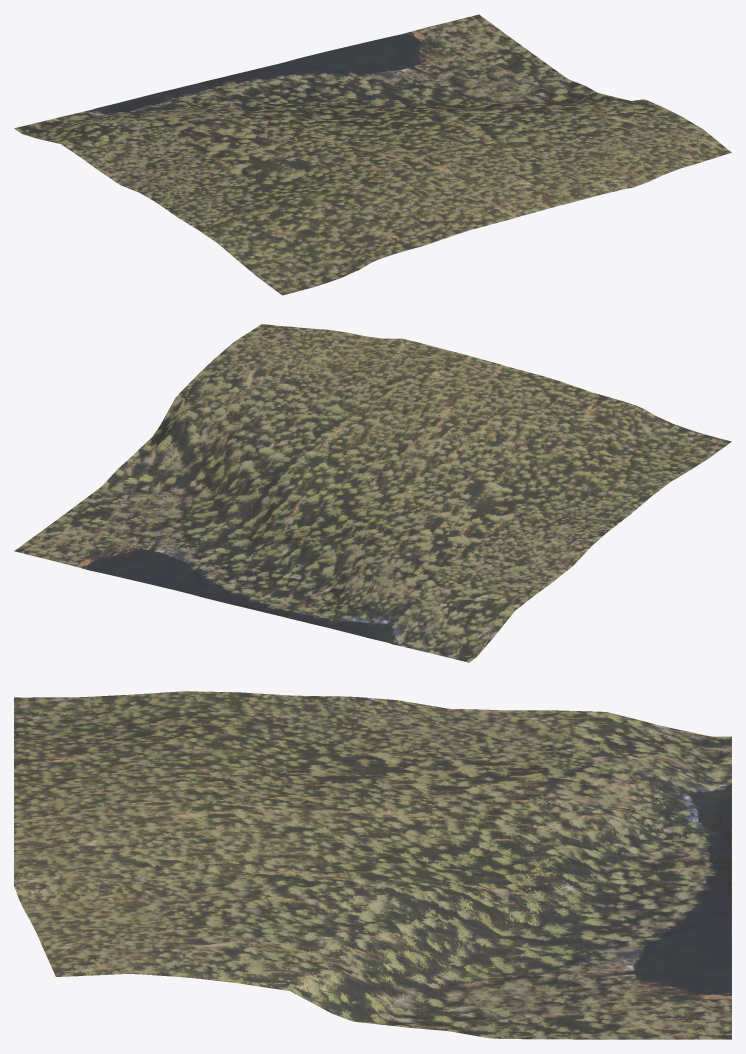
The model's file is CM_Terrain_24493530_6813855.fbx.
The picture shows the model from 3 angles, top to bottom: view 1: azimuth 30°, elevation 25°; view 2: azimuth 150°, elevation 25°; view 3: azimuth 270°, elevation 25°; orthographic projection. The views are drawn at different scales.
Parts seen in each view (by area): view 1: CM_Terrain_24493530_6813855_LOD0; view 2: CM_Terrain_24493530_6813855_LOD0; view 3: CM_Terrain_24493530_6813855_LOD0.
Part boxes in pixels (x1,y1,x2,y2): CM_Terrain_24493530_6813855_LOD0: [14, 14, 731, 295]; CM_Terrain_24493530_6813855_LOD0: [14, 324, 731, 662]; CM_Terrain_24493530_6813855_LOD0: [14, 691, 731, 1039].
Size of what is drawn, in the model's own units: 205 by 22.85 by 205.
